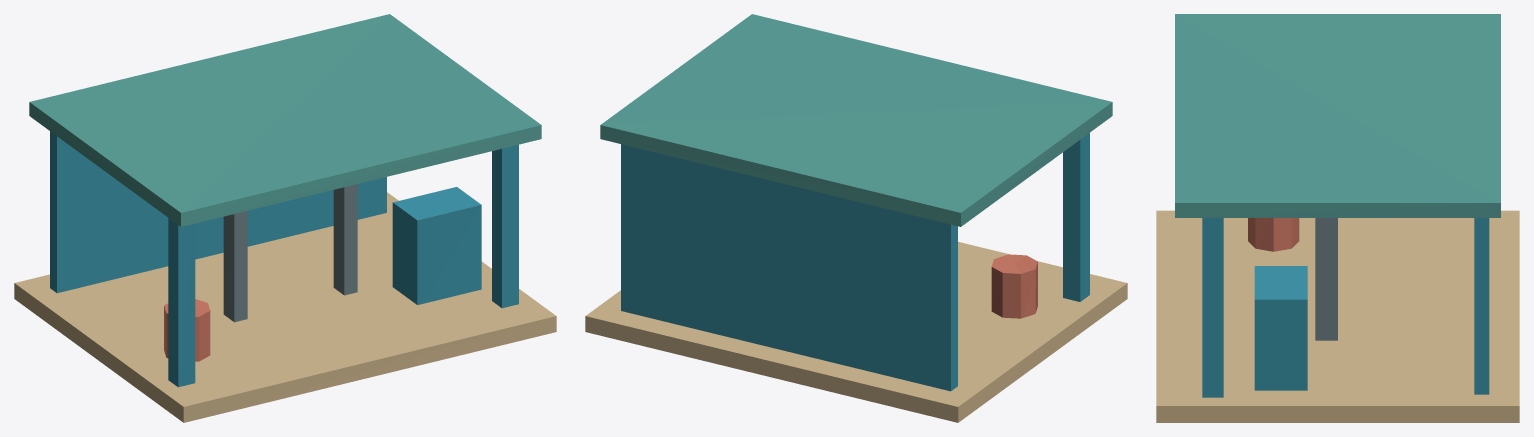
The model's file is mechanic-garage.source.glb.
3 views of the same model, side by side, from view 1: azimuth 30°, elevation 25°; view 2: azimuth 150°, elevation 25°; view 3: azimuth 270°, elevation 25° (orthographic). The views are drawn at different scales.
Parts seen in each view (by area): view 1: mechanic-garage-garage-roof-mesh, mechanic-garage-grounded-garage-slab-mesh, mechanic-garage-garage-rear-wall-mesh, mechanic-garage-service-cabinet-mesh, mechanic-garage-garage-front-column-left-mesh, mechanic-garage-garage-front-column-right-mesh, mechanic-garage-vehicle-lift-post-right-mesh, mechanic-garage-vehicle-lift-post-left-mesh, mechanic-garage-oil-drum-mesh; view 2: mechanic-garage-garage-roof-mesh, mechanic-garage-garage-rear-wall-mesh, mechanic-garage-grounded-garage-slab-mesh, mechanic-garage-garage-front-column-left-mesh, mechanic-garage-oil-drum-mesh; view 3: mechanic-garage-garage-roof-mesh, mechanic-garage-grounded-garage-slab-mesh, mechanic-garage-service-cabinet-mesh, mechanic-garage-garage-front-column-right-mesh, mechanic-garage-garage-rear-wall-mesh, mechanic-garage-vehicle-lift-post-right-mesh, mechanic-garage-oil-drum-mesh.
Part boxes in pixels (x1,y1,x2,y2): mechanic-garage-garage-roof-mesh: [29, 14, 541, 226]; mechanic-garage-grounded-garage-slab-mesh: [14, 192, 556, 422]; mechanic-garage-garage-rear-wall-mesh: [50, 131, 386, 293]; mechanic-garage-service-cabinet-mesh: [392, 187, 481, 304]; mechanic-garage-garage-front-column-left-mesh: [168, 218, 195, 387]; mechanic-garage-garage-front-column-right-mesh: [492, 144, 518, 308]; mechanic-garage-vehicle-lift-post-right-mesh: [333, 184, 357, 295]; mechanic-garage-vehicle-lift-post-left-mesh: [223, 211, 247, 322]; mechanic-garage-oil-drum-mesh: [164, 299, 210, 361]; mechanic-garage-garage-roof-mesh: [600, 14, 1112, 226]; mechanic-garage-garage-rear-wall-mesh: [621, 144, 957, 391]; mechanic-garage-grounded-garage-slab-mesh: [585, 241, 1127, 422]; mechanic-garage-garage-front-column-left-mesh: [1063, 133, 1089, 301]; mechanic-garage-oil-drum-mesh: [991, 254, 1037, 318]; mechanic-garage-garage-roof-mesh: [1175, 14, 1500, 217]; mechanic-garage-grounded-garage-slab-mesh: [1156, 210, 1519, 422]; mechanic-garage-service-cabinet-mesh: [1254, 266, 1307, 390]; mechanic-garage-garage-front-column-right-mesh: [1202, 218, 1223, 397]; mechanic-garage-garage-rear-wall-mesh: [1474, 218, 1489, 394]; mechanic-garage-vehicle-lift-post-right-mesh: [1315, 218, 1337, 340]; mechanic-garage-oil-drum-mesh: [1248, 218, 1299, 251].
Size of the model in its own units: 6.1 by 3.16 by 4.8.
